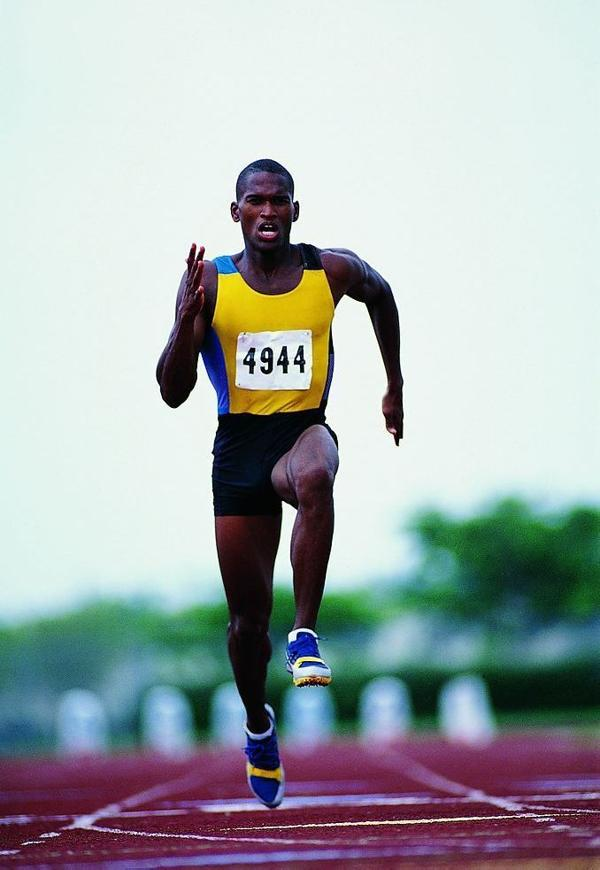person: (158, 159, 406, 810)
